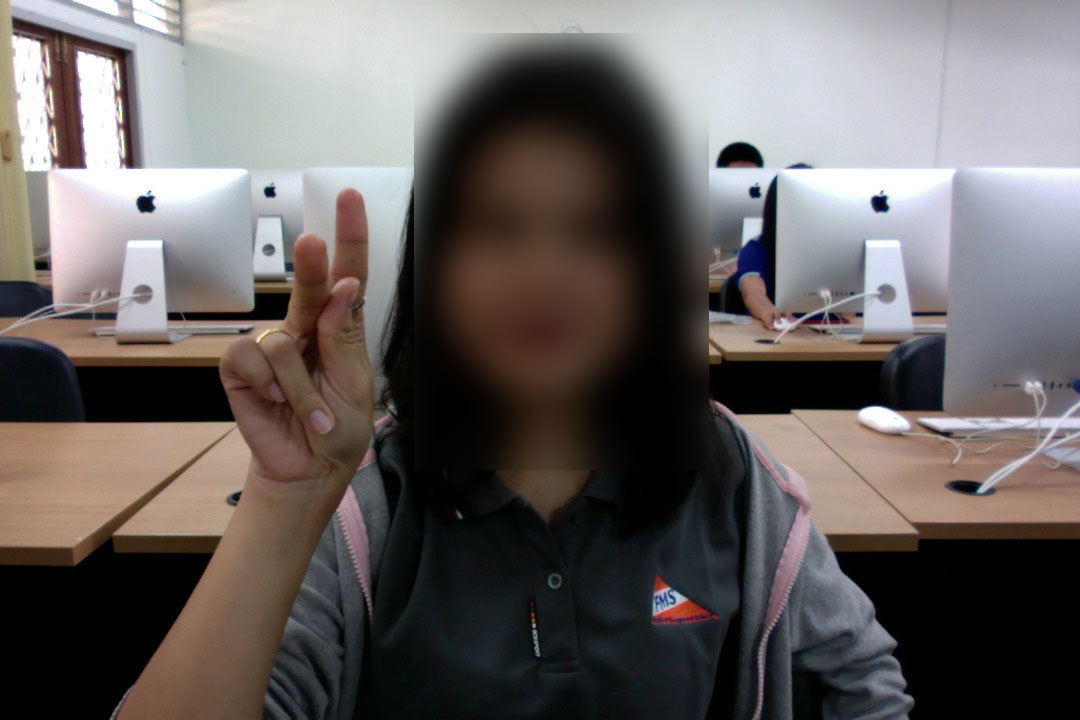ko: (206, 179, 392, 479)
